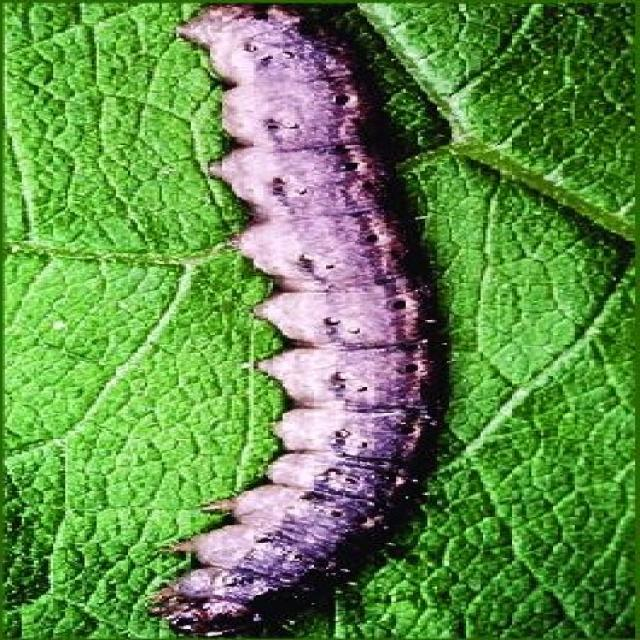black cutworm: (151, 8, 441, 634)
